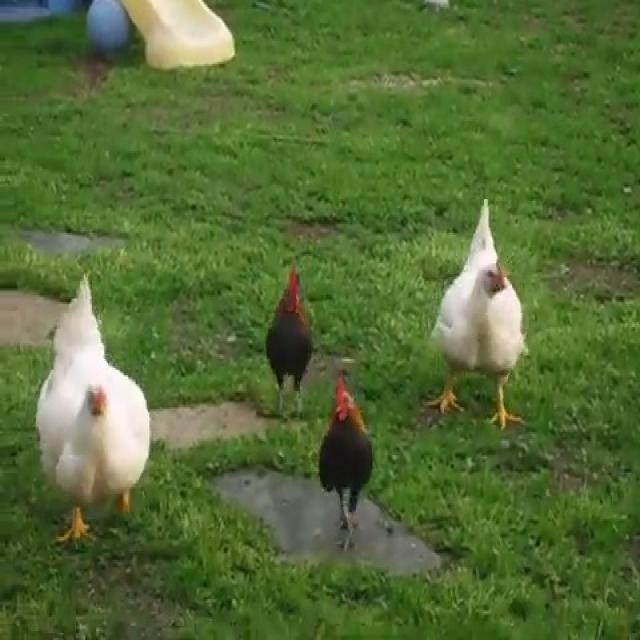running: (33, 278, 168, 550), (432, 194, 533, 436), (238, 249, 326, 416), (319, 387, 384, 553)
